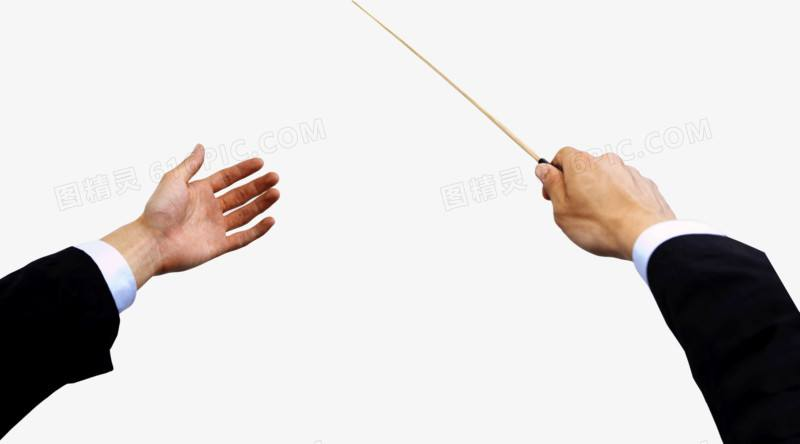no-phone: (139, 140, 287, 276)
